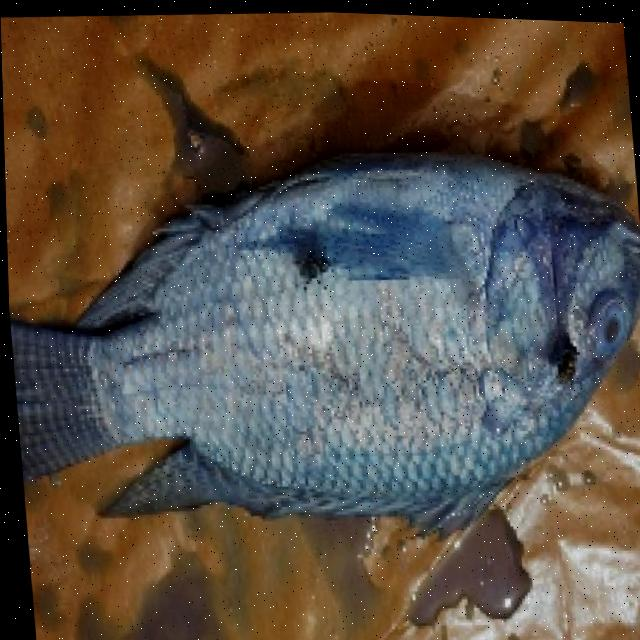Non-Fresh: (37, 128, 640, 535), (560, 281, 632, 356)
